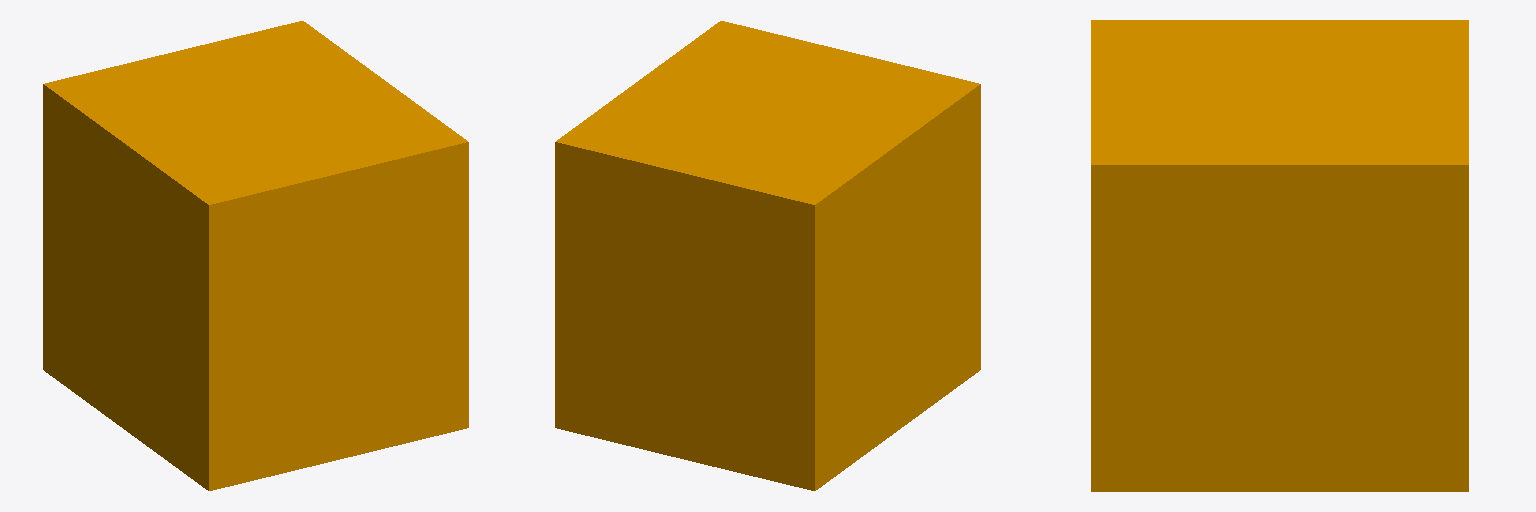
robot.urdf — object:
<robot name="object">
  <link name="object">
    <visual>
      <origin xyz="0 0 0" />
      <geometry>
        <box size="0.07600000000000001 0.08400000000000002 0.08" />
      </geometry>
    </visual>

    <collision>
      <origin xyz="0 0 0" />
      <geometry>
        <box size="0.07600000000000001 0.08400000000000002 0.08" />
      </geometry>
    </collision>

    <inertial>
      <mass value="0.05" />
      <inertia ixx="0.0001" ixy="0.0" ixz="0.0" iyy="0.0001" iyz="0.0" izz="0.0001" />
    </inertial>
  </link>
</robot>

--- Render facts (derived) ---
3 views of the same robot in one strip: view 1: azimuth 30°, elevation 25°; view 2: azimuth 150°, elevation 25°; view 3: azimuth 270°, elevation 25° (orthographic).
Model object with 1 links and 0 joints (none), rooted at object, posed all joints at 0.
Links seen in each view (by area): view 1: object; view 2: object; view 3: object.
Link boxes in pixels (bbox=[...]): object: bbox=[43, 21, 468, 490]; object: bbox=[555, 21, 980, 490]; object: bbox=[1091, 20, 1468, 491].
Bounding box of the posed robot: 0.076 × 0.084 × 0.08 m (x, y, z).
Geometry: primitives only (box / cylinder / sphere), no mesh files.